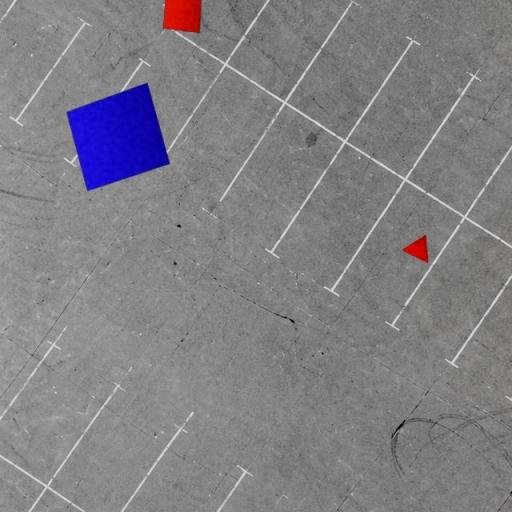BLUE_SQUARE: (66, 82, 170, 192)
RED_SQUARE: (162, 0, 202, 34)
